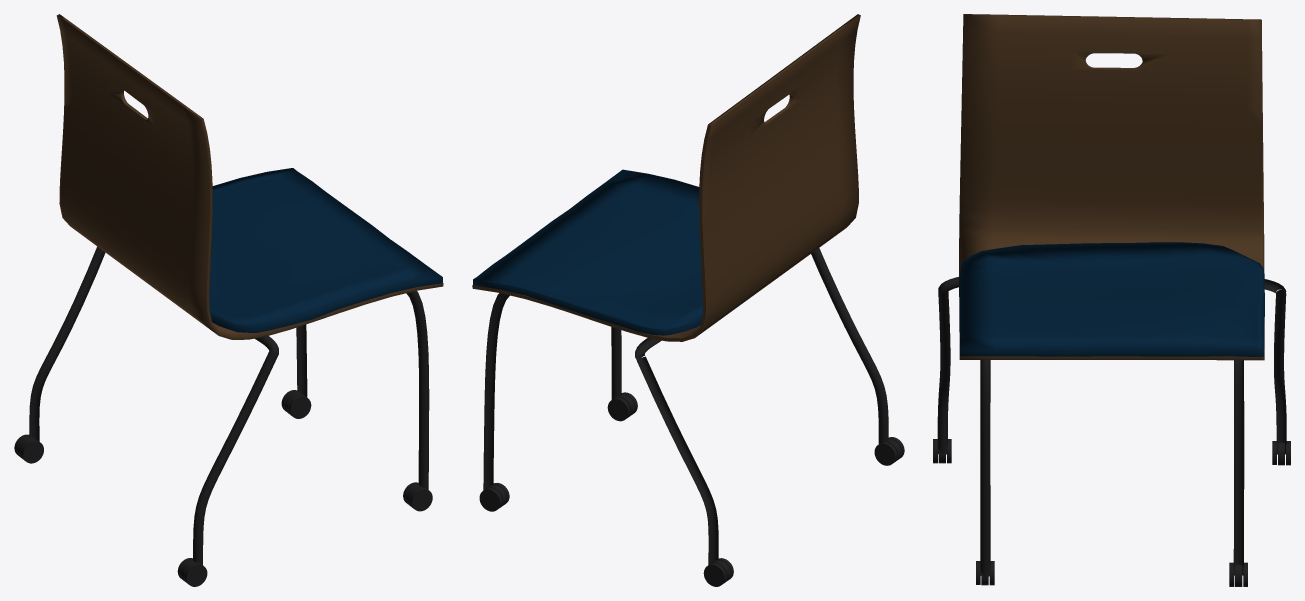
The model's file is chair.fbx.
3 renders of one model, left to right at view 1: azimuth 30°, elevation 25°; view 2: azimuth 150°, elevation 25°; view 3: azimuth 270°, elevation 25°, orthographic.
Parts seen in each view (by area): view 1: chair; view 2: chair; view 3: chair.
Boxes of the visible parts, x1,y1,x2,y2 form: chair: (14, 14, 443, 586); chair: (472, 14, 904, 586); chair: (933, 14, 1290, 586).
Size of what is drawn, in the model's own units: 261 by 416 by 295.
